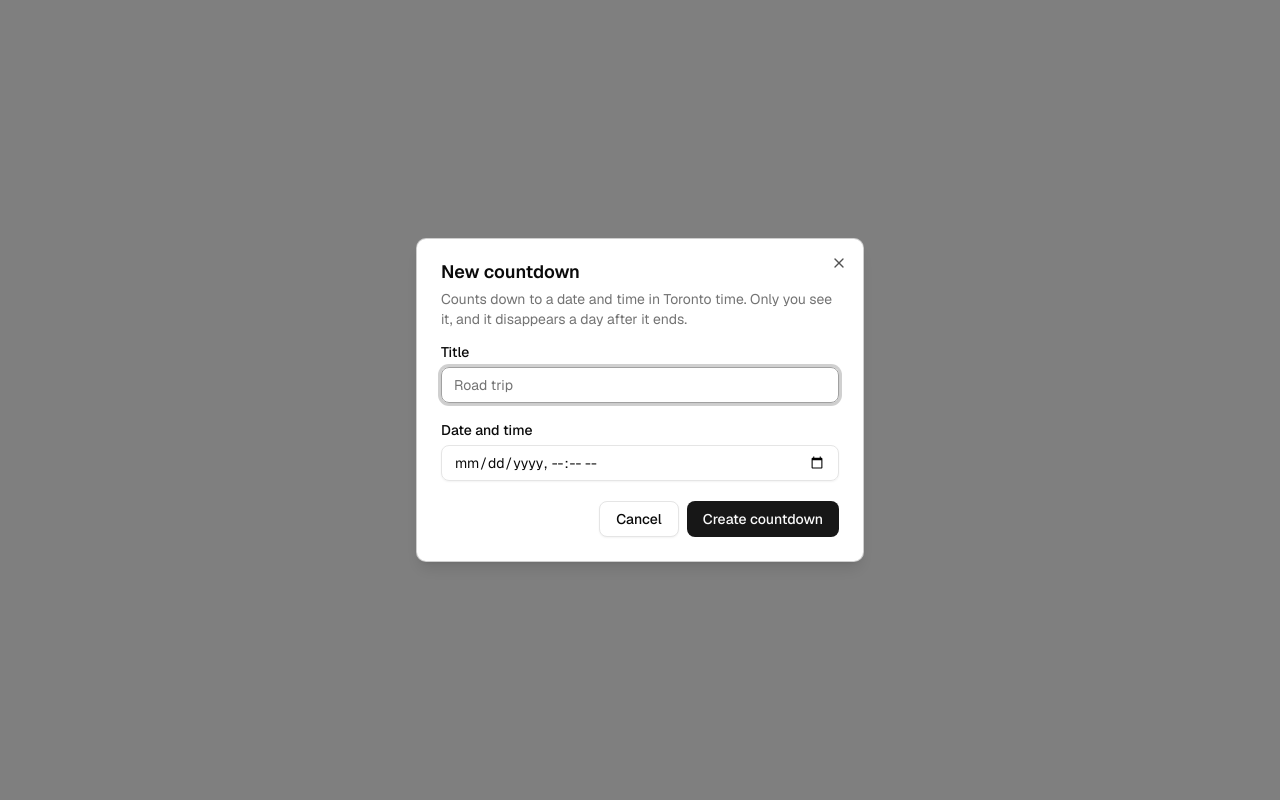
Test case: CountdownDialog › shows the server's sentence and stays open on an error
Type "Trip" into the field labelled "Title".
click(640, 385); type("Trip")  # box [441,367,839,403]
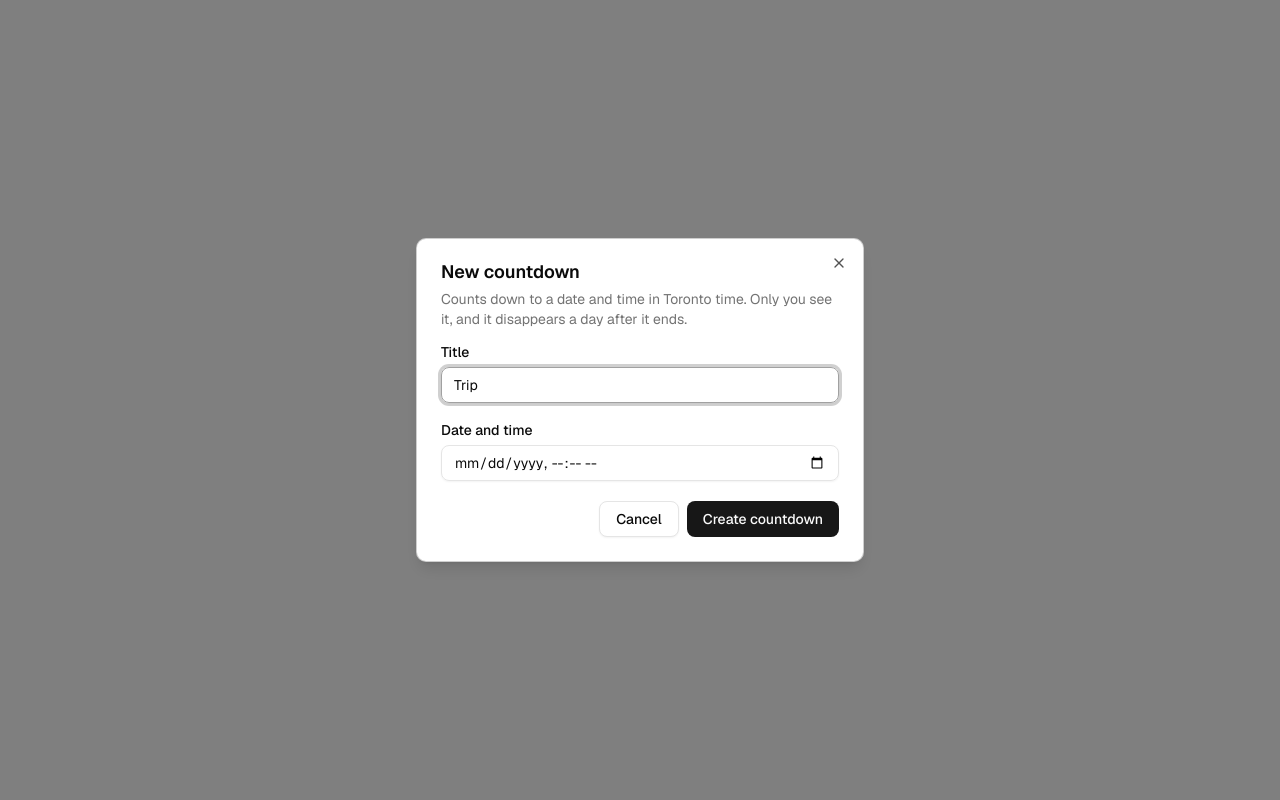
Type "2020-01-01T10:00" into the field labelled "Date and time".
click(640, 463); type("2020-01-01T10:00")  # box [441,445,839,481]
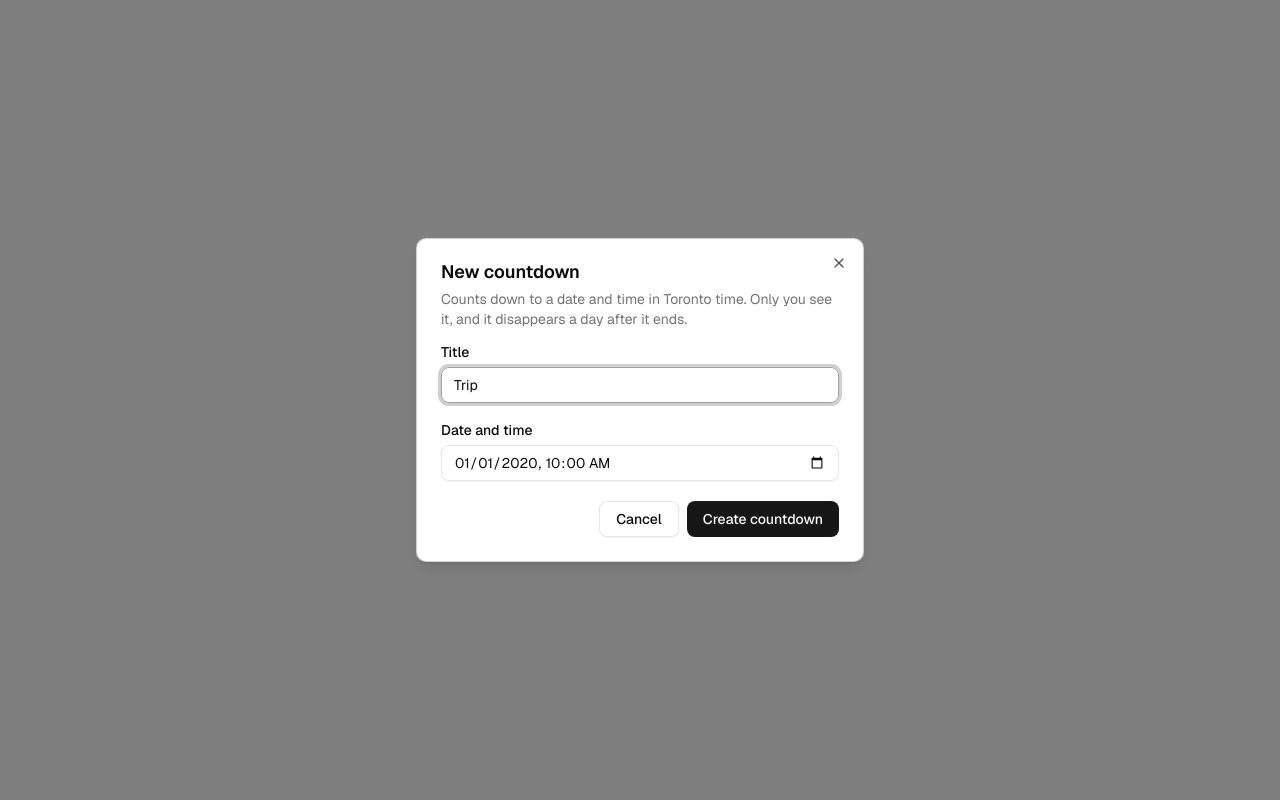
Click the button "Create countdown".
click(763, 519)  # box [687,501,839,537]
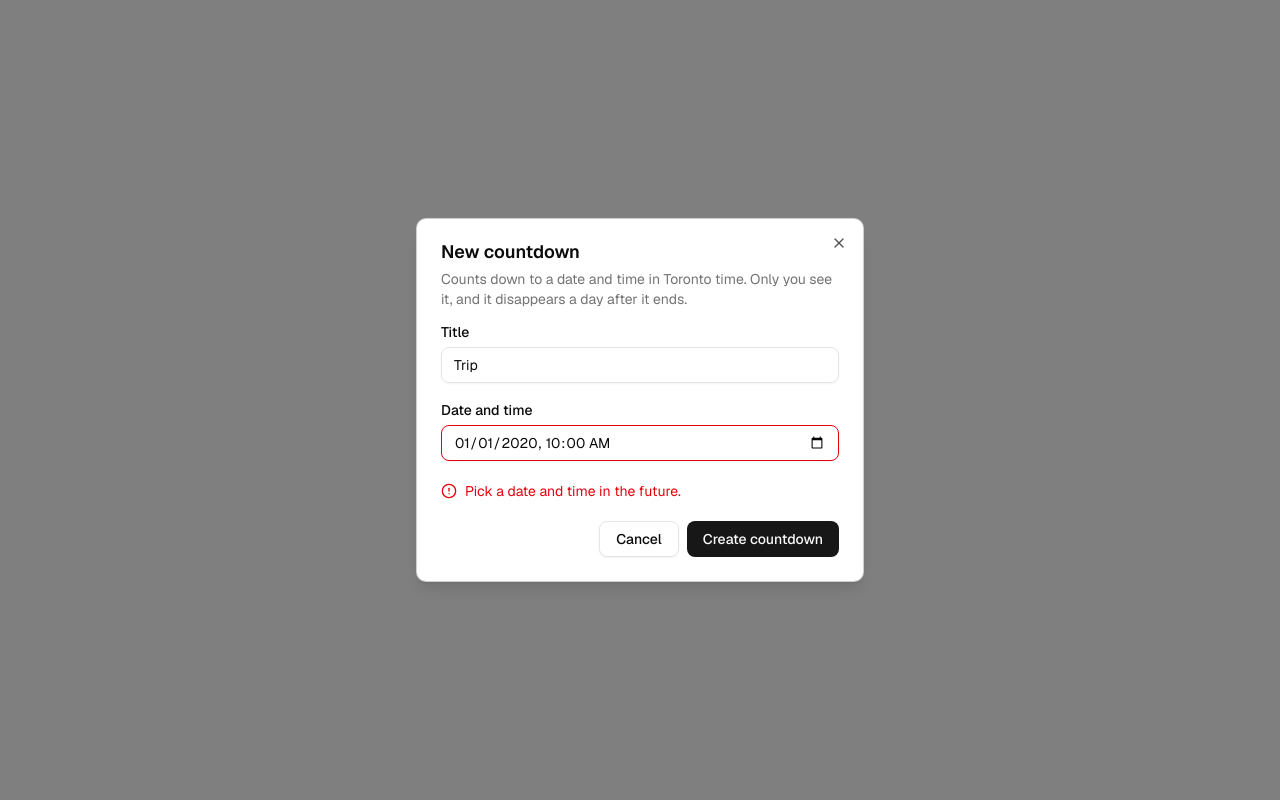
Now the message shows "in the future", box [465,482,681,500]
